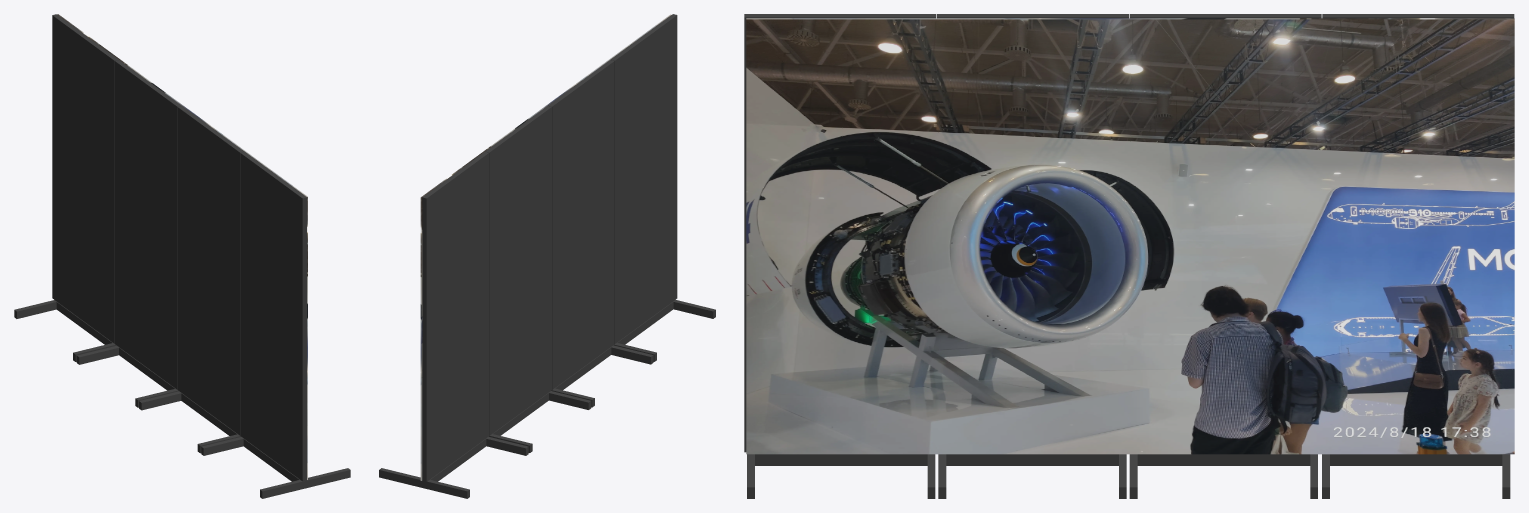
The model's file is led_panel_4x2.5_p1.9.glb.
3 views of the same model, side by side, from view 1: azimuth 30°, elevation 25°; view 2: azimuth 150°, elevation 25°; view 3: azimuth 270°, elevation 25° (orthographic). The views are drawn at different scales.
Parts seen in each view (by area): view 1: Box1578972468, Box1578972467, Box1578972465, Box1578972466, Box1578972509, Box1578972512, Box1578972511, Box1578972510; view 2: Box1578972465, Box1578972468, Box1578972466, Box1578972467, Box1578972512, Box1578972511, Box1578972510, Box1578972509; view 3: Box1578972504, Box1578972469, Box1578972474, Box1578972479, Box1578972484, Box1578972489, Box1578972494, Box1578972499, Box1578972505, Box1578972506, Box1578972507, Box1578972508 (+36 smaller).
Part boxes in pixels (left/top/right/bottom): Box1578972468: left=240, top=151, right=306, bottom=481; Box1578972467: left=177, top=106, right=243, bottom=435; Box1578972465: left=52, top=14, right=118, bottom=343; Box1578972466: left=115, top=60, right=181, bottom=389; Box1578972509: left=201, top=437, right=350, bottom=498; Box1578972512: left=14, top=300, right=116, bottom=361; Box1578972511: left=76, top=345, right=178, bottom=407; Box1578972510: left=139, top=391, right=240, bottom=453; Box1578972465: left=422, top=152, right=489, bottom=481; Box1578972468: left=611, top=14, right=677, bottom=343; Box1578972466: left=485, top=106, right=551, bottom=435; Box1578972467: left=548, top=60, right=614, bottom=389; Box1578972512: left=379, top=436, right=528, bottom=498; Box1578972511: left=489, top=391, right=591, bottom=452; Box1578972510: left=551, top=345, right=653, bottom=407; Box1578972509: left=613, top=300, right=715, bottom=361; Box1578972504: left=746, top=18, right=842, bottom=106; Box1578972469: left=1418, top=18, right=1514, bottom=106; Box1578972474: left=1322, top=18, right=1418, bottom=106; Box1578972479: left=1226, top=18, right=1322, bottom=106; Box1578972484: left=1130, top=18, right=1226, bottom=106; Box1578972489: left=1034, top=18, right=1130, bottom=106; Box1578972494: left=938, top=18, right=1034, bottom=106; Box1578972499: left=842, top=18, right=938, bottom=106; Box1578972505: left=746, top=106, right=842, bottom=193; Box1578972506: left=746, top=193, right=842, bottom=280; Box1578972507: left=746, top=280, right=842, bottom=367; Box1578972508: left=746, top=367, right=842, bottom=454.
Bounding box in the file's own units: 0.8155 × 2.58 × 4.01.
Materials: 2 (1 with a texture image).
